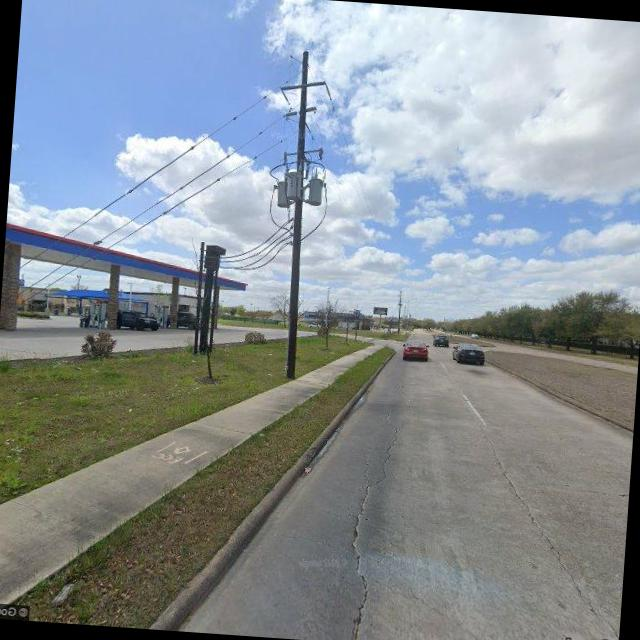pothole: (452, 405, 627, 640), (337, 417, 404, 640)
